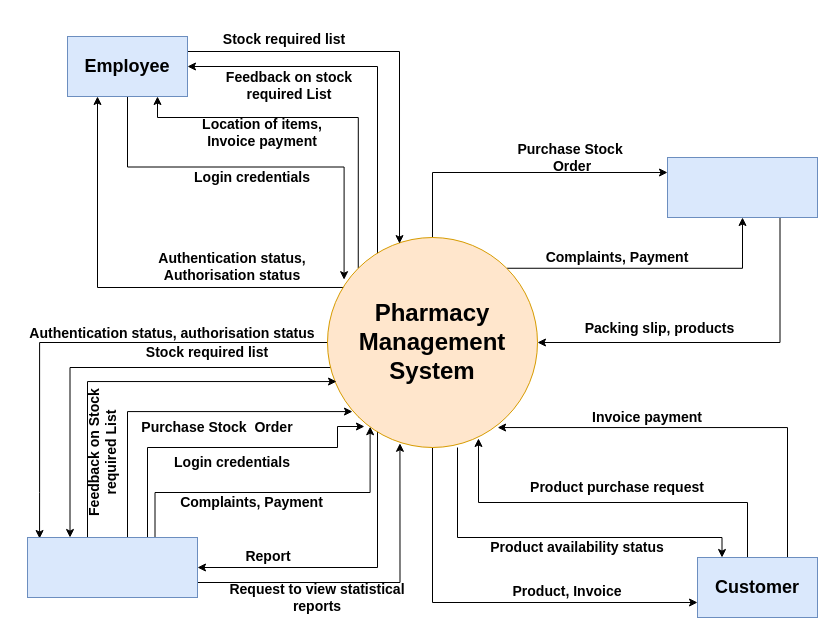
This 835x635 diagram has some shape labels left out. The centre of each missing label's shape, as x and y in pixels:
"Admin" goes at point 112,567.
"Supplier" goes at point 742,187.
